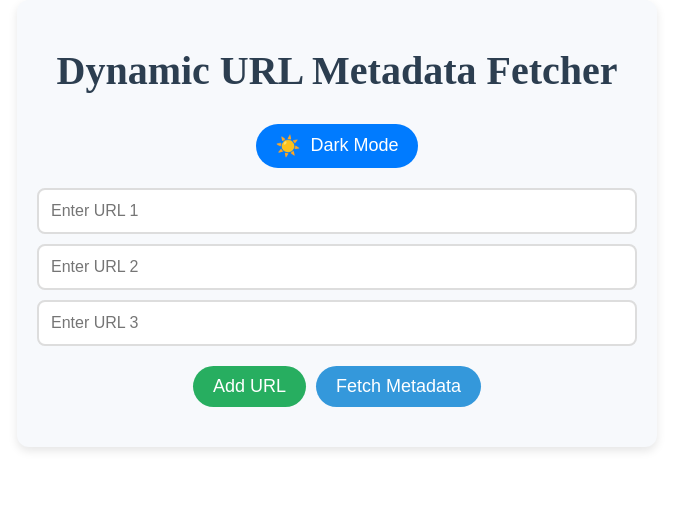
it: UrlForm Component › allows adding URL fields
Step 1. Click the button "Add URL" → (249, 386), box [193,366,306,407]
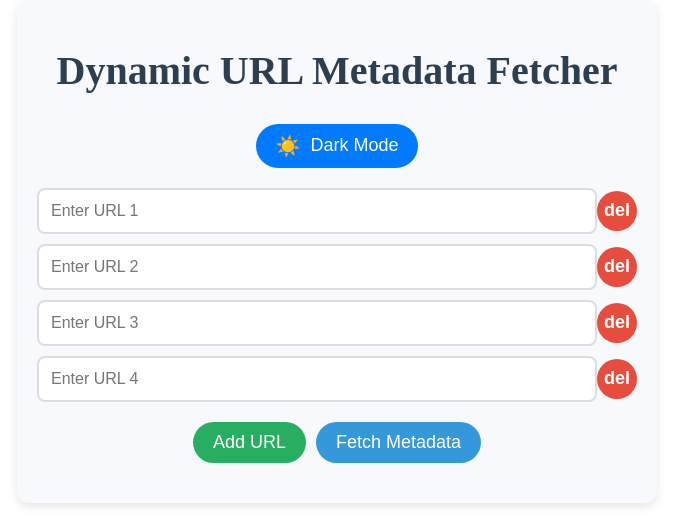
expect the number of fields with placeholder "Enter URL 1" is 4: met, box [37,188,597,234]; [37,244,597,290]; [37,300,597,346]; [37,356,597,402]
